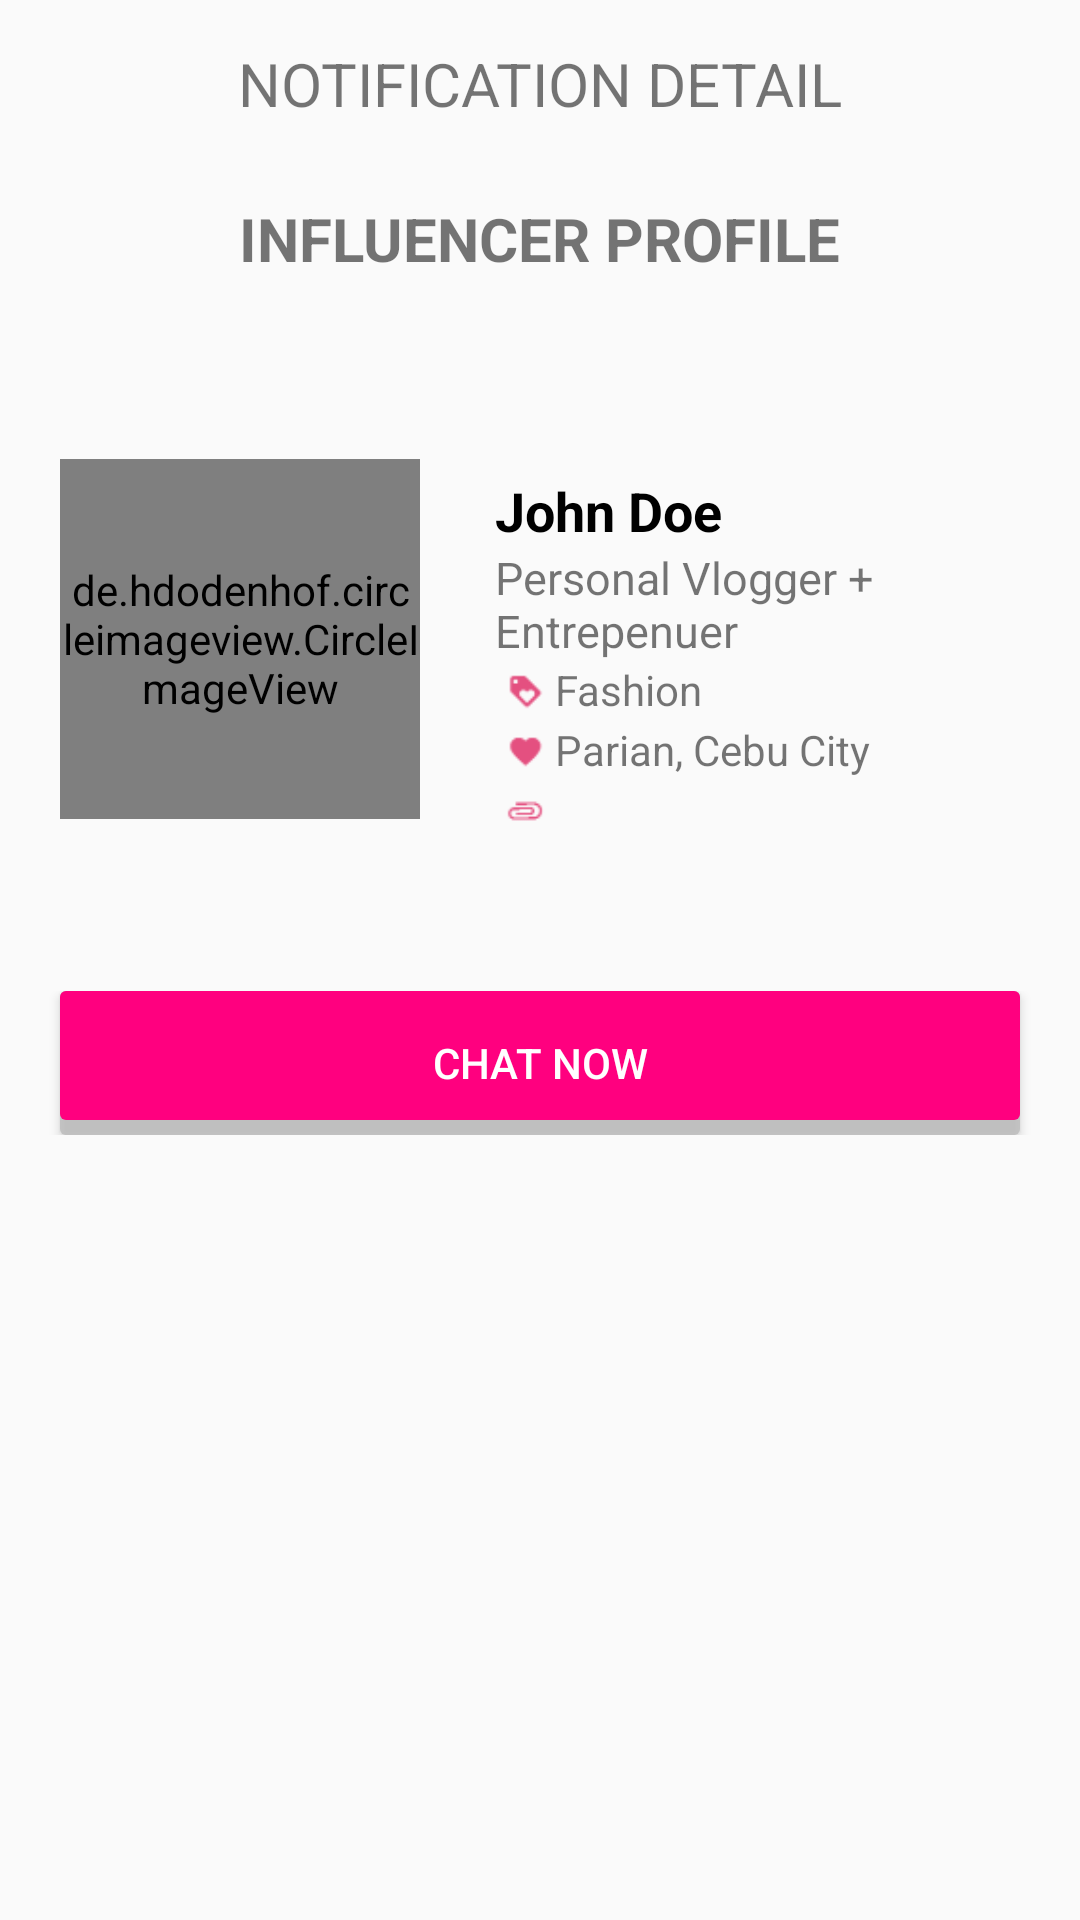

Screen size 1080px x 1920px. Icon name, then its box in pixels as box=[x1, y1, x2, y2]:
heart: box=[509, 737, 542, 766]
link: box=[508, 801, 543, 821]
tag: box=[509, 675, 542, 708]
